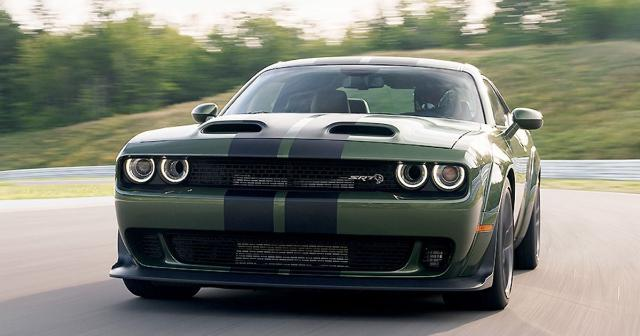dodge: (109, 56, 544, 312)
